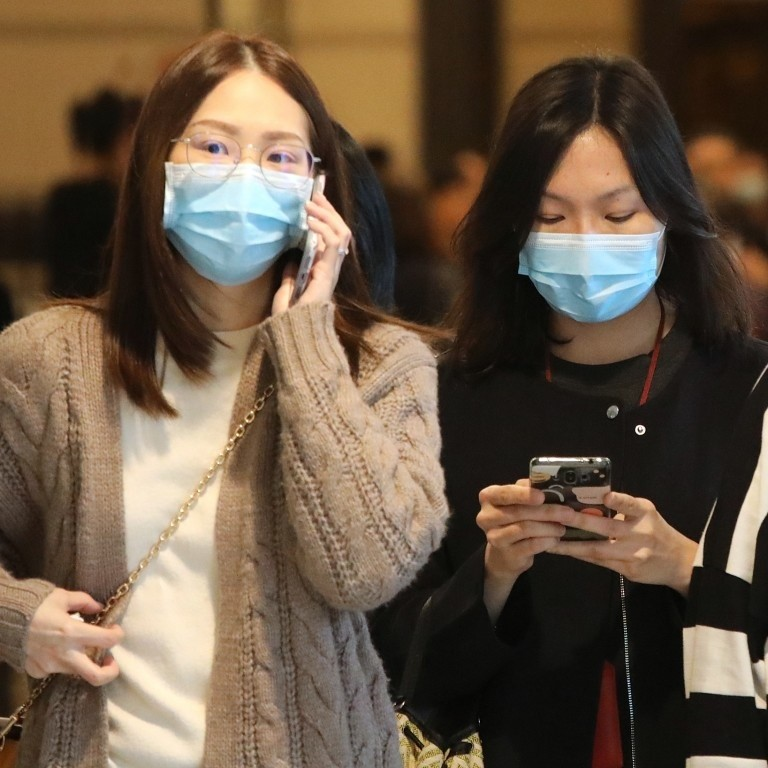face_with_mask: (499, 59, 673, 327), (150, 40, 328, 290)
